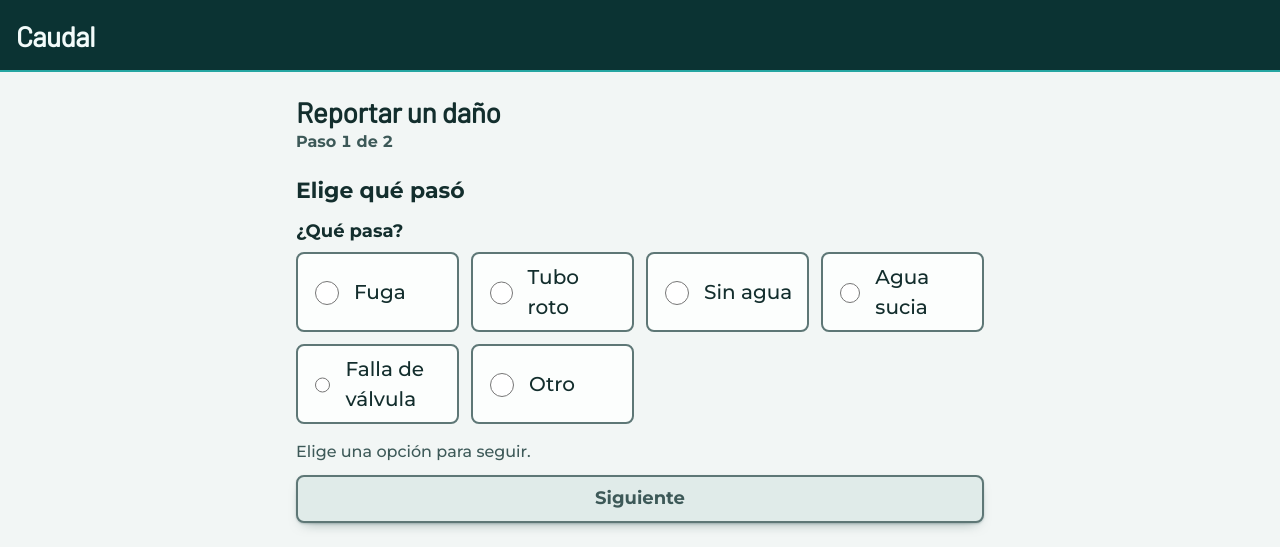
DamageReportPage (S05, without login) › offers the categories of the catalog and keeps "Siguiente" off until one is chosen
expect the heading "Reportar un daño" is shown: met, box x1=296 y1=95 x2=500 y2=129
expect the radio button labelled "Tubo roto" is shown: met, box x1=490 y1=281 x2=513 y2=305
Click the radio button labelled "Fuga" at (327, 293), box x1=315 y1=281 x2=339 y2=305
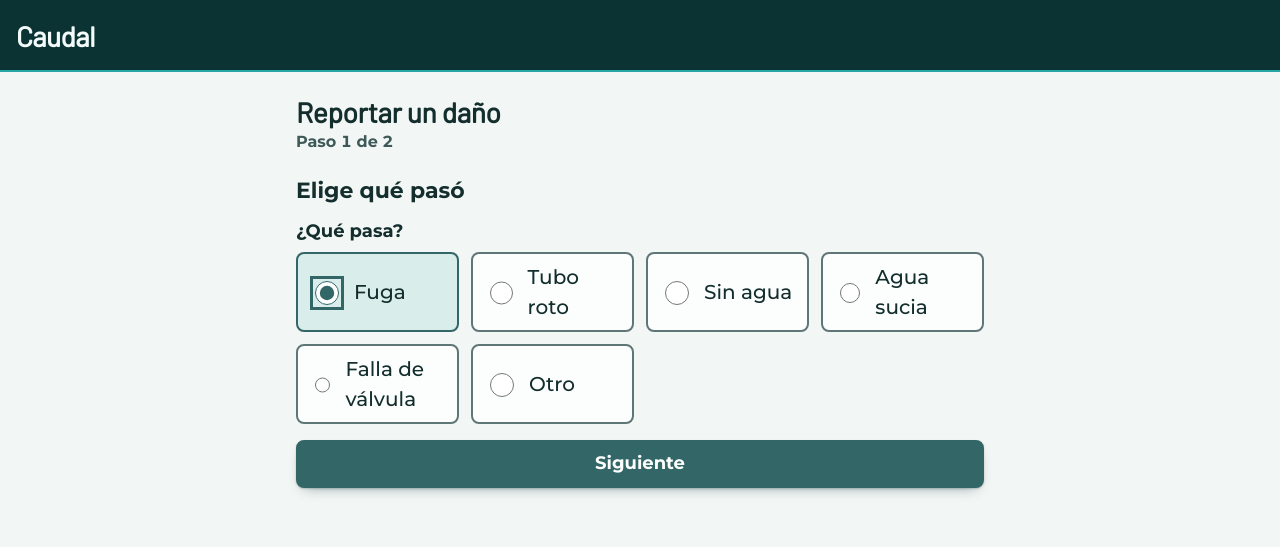
expect the button "Siguiente" is enabled: met, box x1=296 y1=440 x2=984 y2=488
